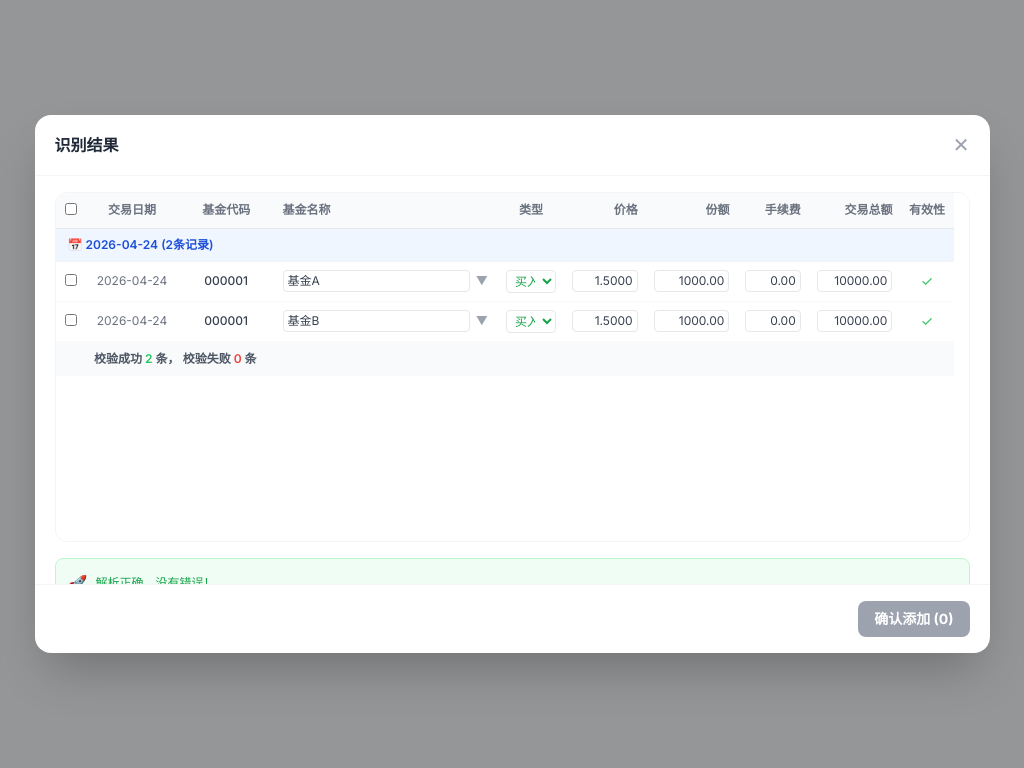
TradeSmartInputResultModal › 选择功能 › 点击复选框切换选择
This screenshot has width=1024, height=768.
Expected: the button "确认添加 (0)" is shown, [858,601,970,637]
#  选择第一条记录
Step 1. Click the 2nd checkbox → click(71, 280), box [65,274,77,286]
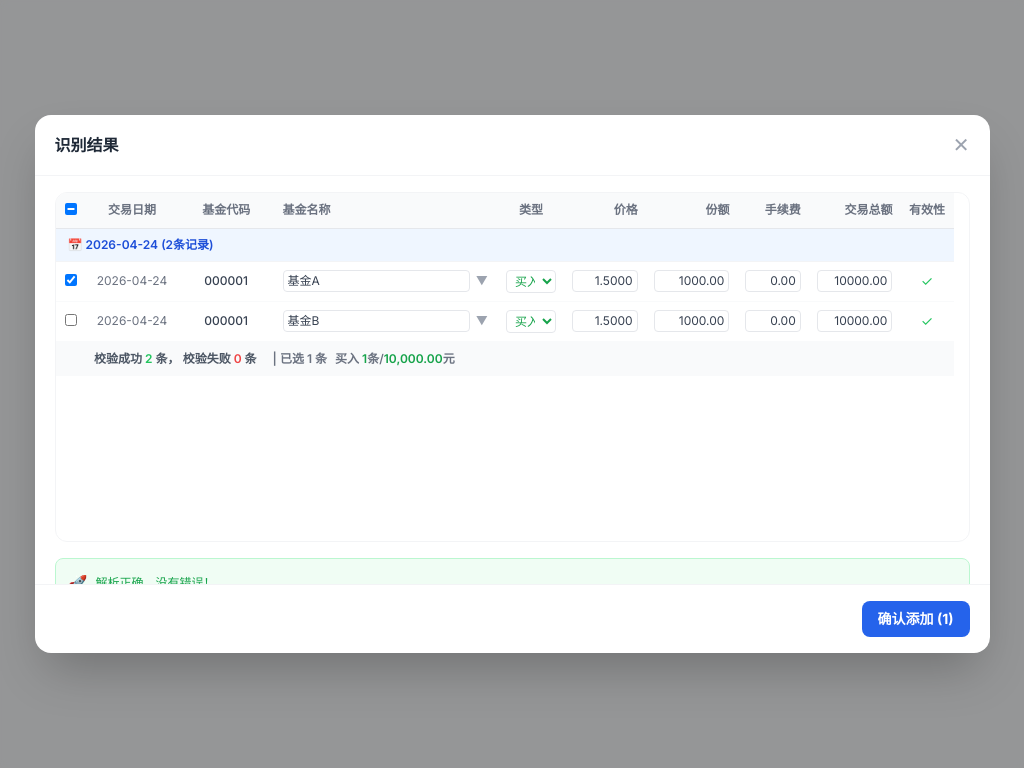
Result: the button "确认添加 (1)" is shown at [862,601,970,637]
Step 2. Click the 2nd checkbox → click(71, 280), box [65,274,77,286]
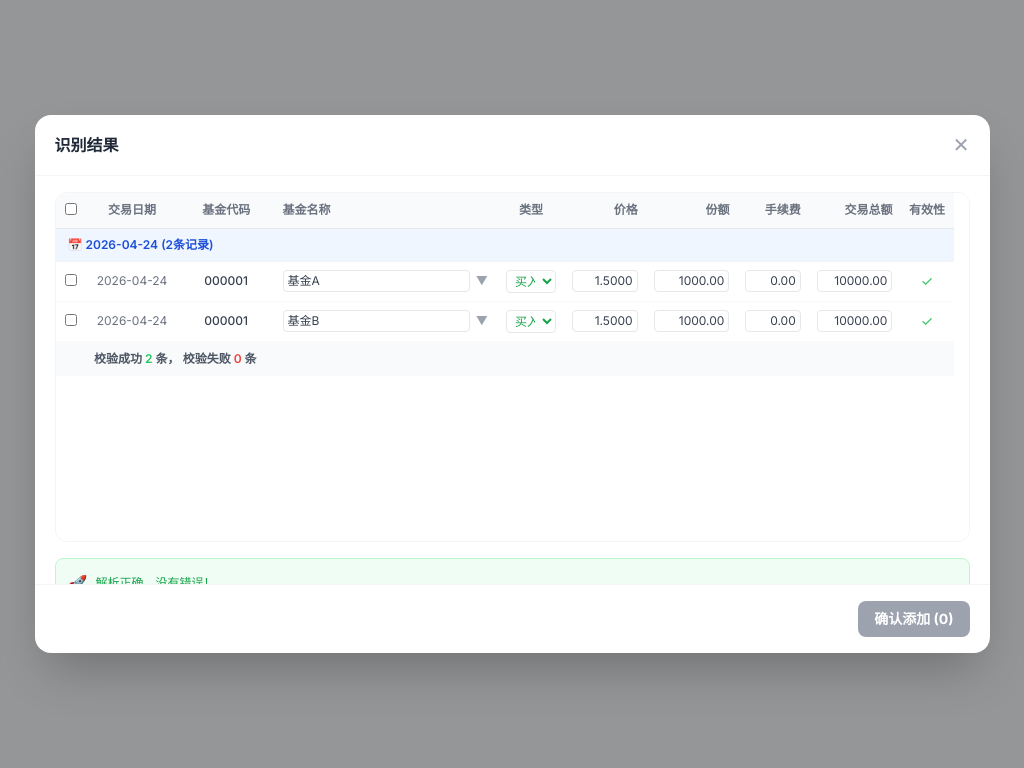
Result: the button "确认添加 (0)" is shown at [858,601,970,637]
